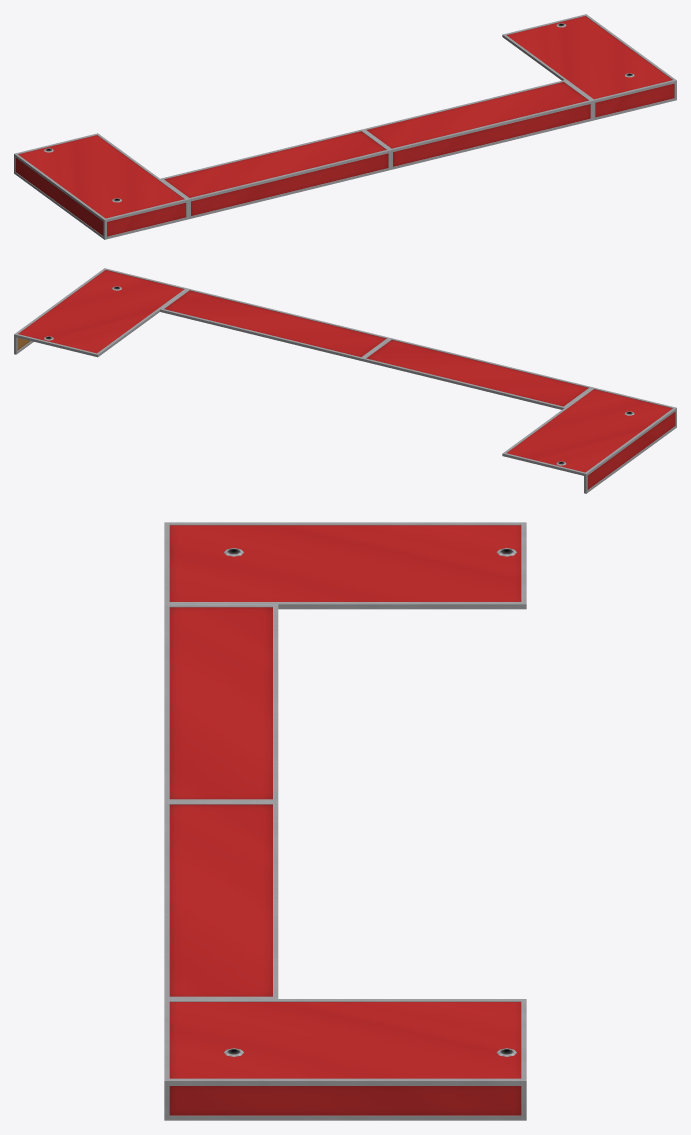
File: jsf_4P_s04_c06_t03_DX.fbx
The picture shows the model from 3 angles, top to bottom: view 1: azimuth 30°, elevation 25°; view 2: azimuth 150°, elevation 25°; view 3: azimuth 270°, elevation 25°; orthographic projection. The views are drawn at different scales.
Visible parts, largest first — view 1: jsf_4P_s04_c06_t03_DX; view 2: jsf_4P_s04_c06_t03_DX; view 3: jsf_4P_s04_c06_t03_DX.
Part boxes in pixels (bbox=[...]): jsf_4P_s04_c06_t03_DX: bbox=[14, 14, 676, 239]; jsf_4P_s04_c06_t03_DX: bbox=[14, 268, 676, 493]; jsf_4P_s04_c06_t03_DX: bbox=[164, 522, 526, 1120].
Size of the model in its own units: 378 by 12.99 by 104.
